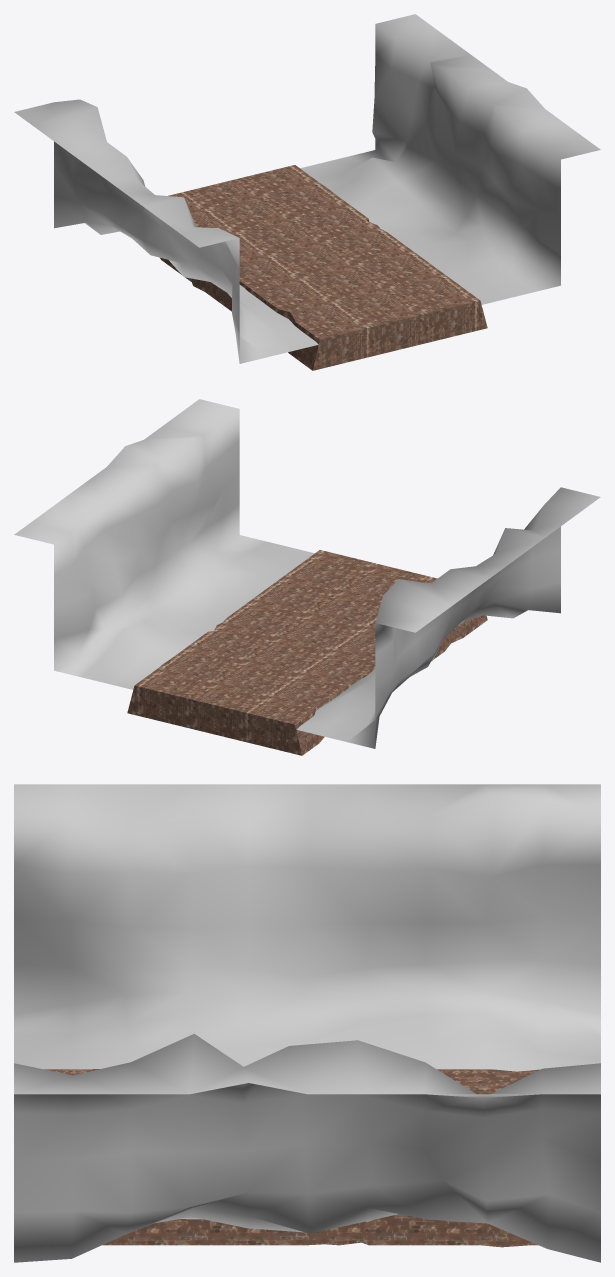
Rendered from tile_natural2.fbx.
3 views of the same model, one above another, from view 1: azimuth 30°, elevation 25°; view 2: azimuth 150°, elevation 25°; view 3: azimuth 270°, elevation 25° (orthographic). The views are drawn at different scales.
Visible parts, largest first — view 1: tilenatural2; view 2: tilenatural2; view 3: tilenatural2.
Part boxes in pixels (bbox=[...]): tilenatural2: bbox=[14, 14, 600, 370]; tilenatural2: bbox=[14, 399, 600, 755]; tilenatural2: bbox=[14, 784, 600, 1262].
Size of the model in its own units: 5000 by 4000 by 1998.
